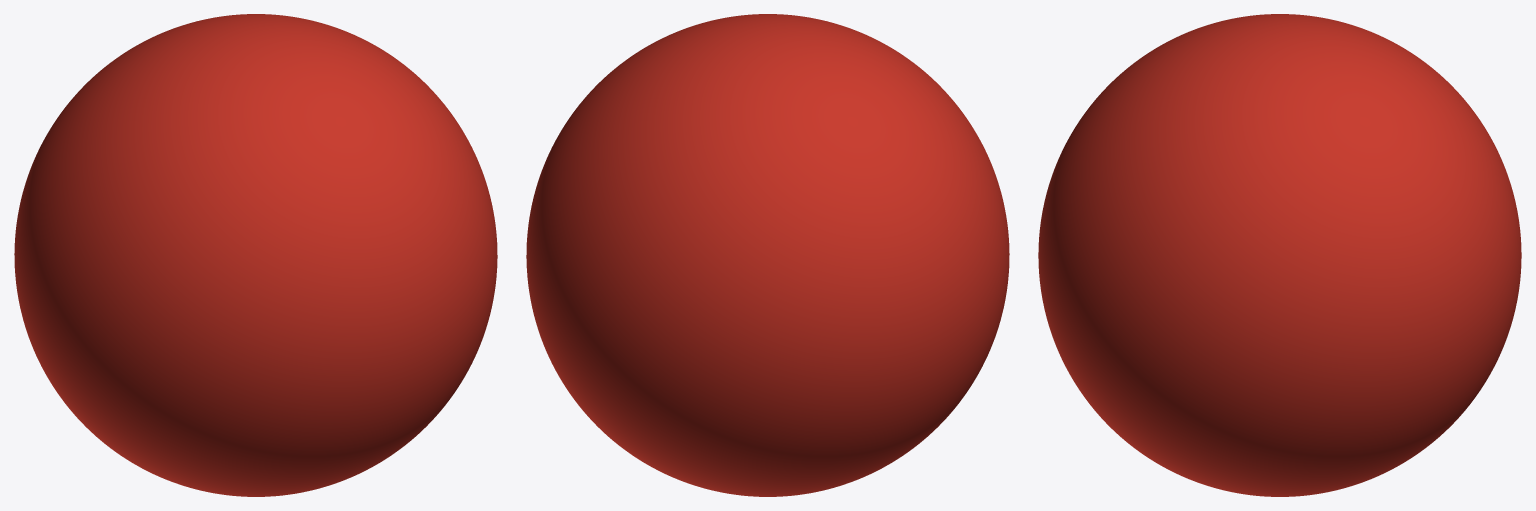
File: red_ball.obj
3 views of the same model, side by side, from view 1: azimuth 30°, elevation 25°; view 2: azimuth 150°, elevation 25°; view 3: azimuth 270°, elevation 25° (orthographic).
Parts seen in each view (by area): view 1: Corpo1; view 2: Corpo1; view 3: Corpo1.
Boxes of the visible parts, left/top/right/bottom form: Corpo1: left=14, top=14, right=497, bottom=496; Corpo1: left=526, top=14, right=1009, bottom=496; Corpo1: left=1038, top=14, right=1521, bottom=496.
Size of the model in its own units: 25 by 24.99 by 25.
